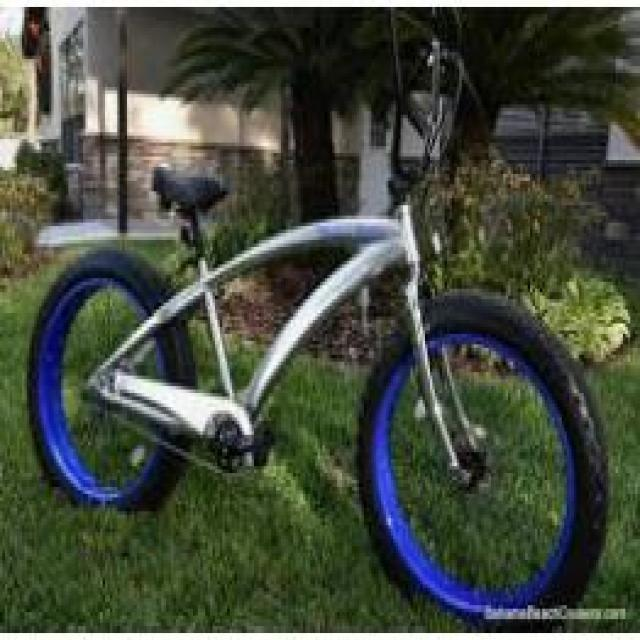bicycle: (18, 105, 605, 624)
